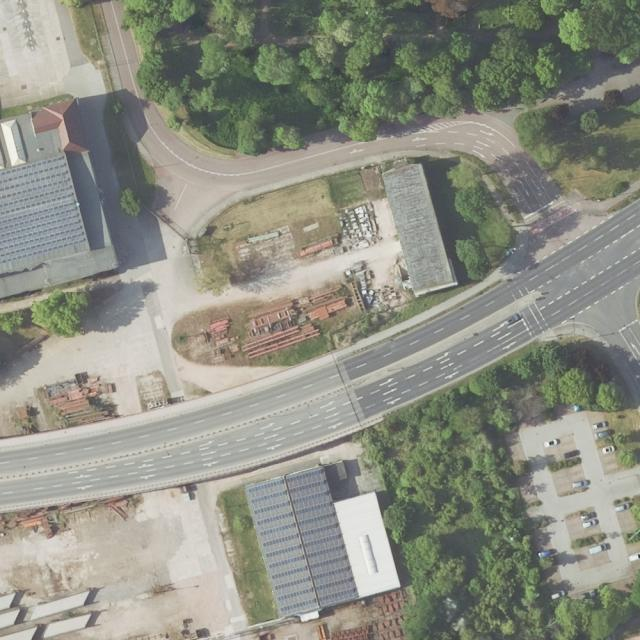PV: (247, 468, 357, 611), (1, 156, 86, 262)
